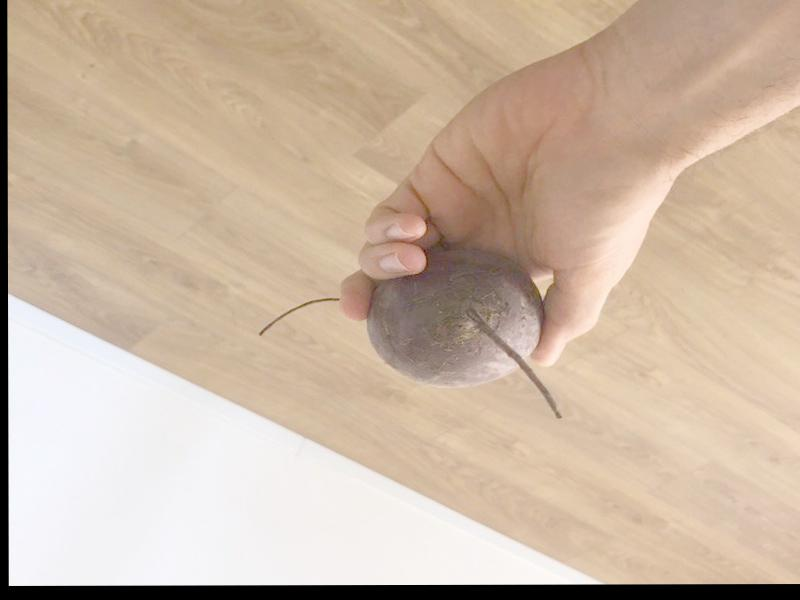Beet: (257, 246, 560, 418)
